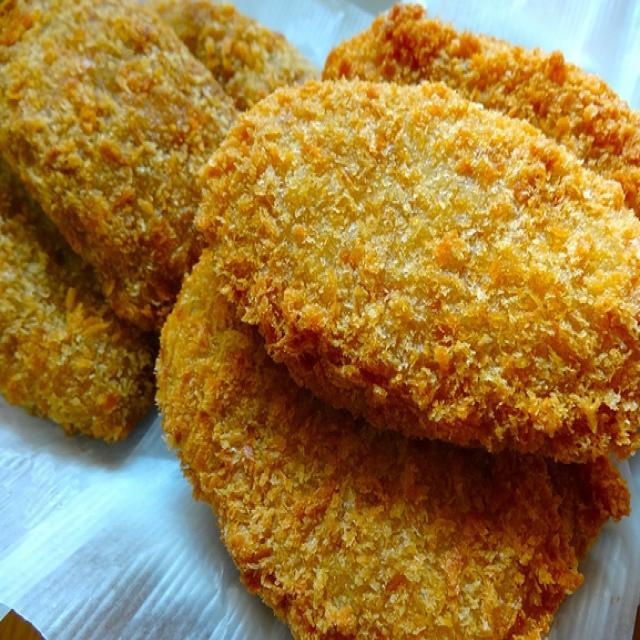炸货点心: (0, 5, 629, 631)
